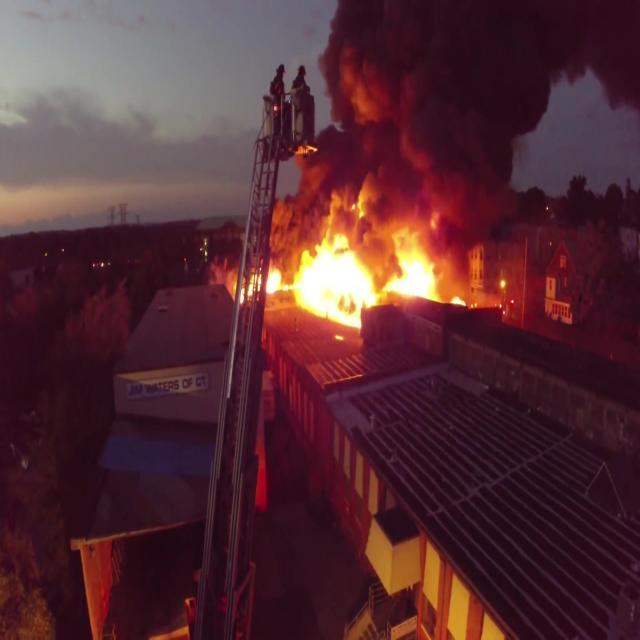Fire: (258, 227, 457, 300)
Smoke: (272, 0, 590, 269)
